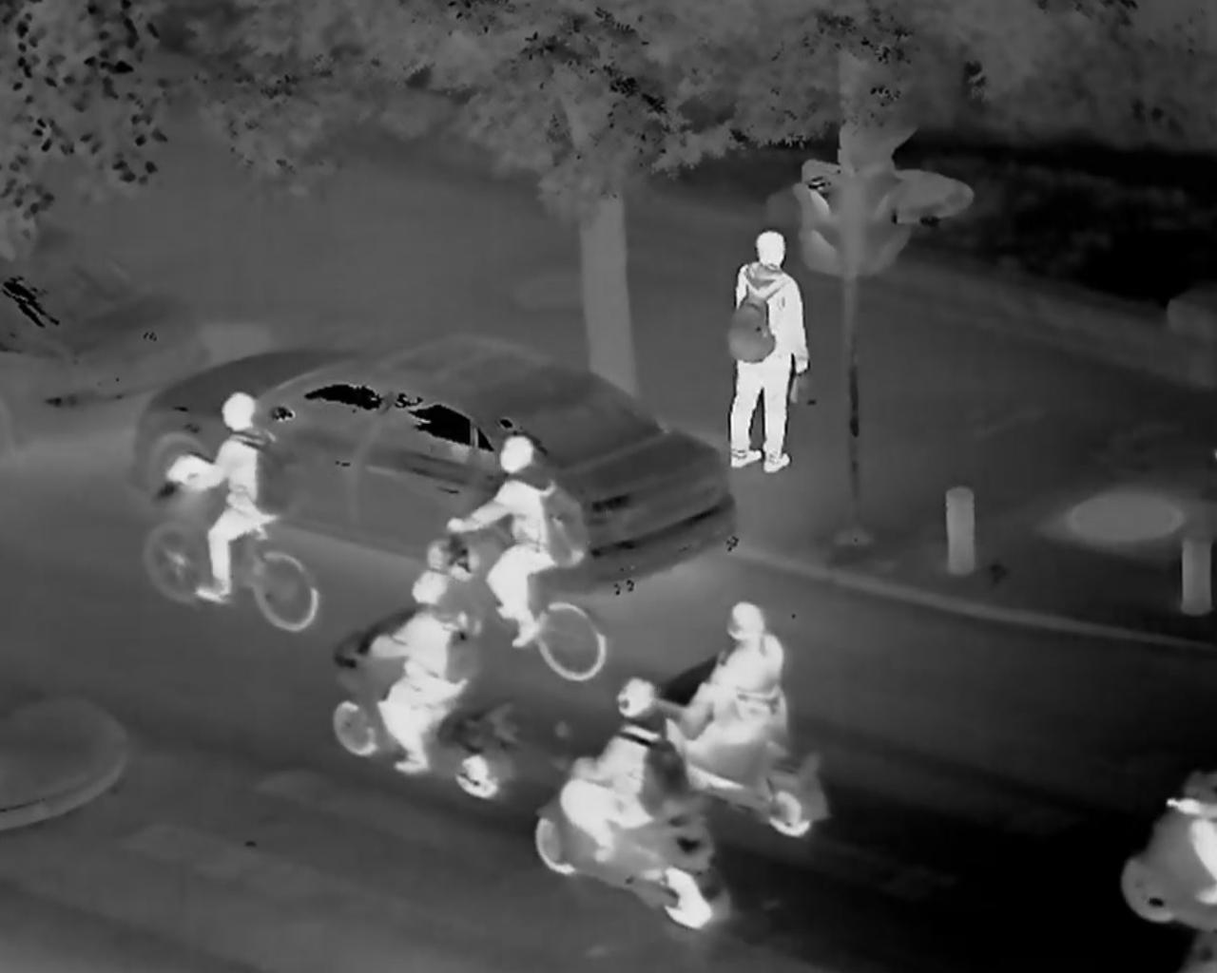person: (454, 434, 598, 650), (161, 393, 296, 607), (357, 569, 483, 779), (678, 599, 810, 792), (556, 676, 678, 861), (724, 224, 804, 476)
